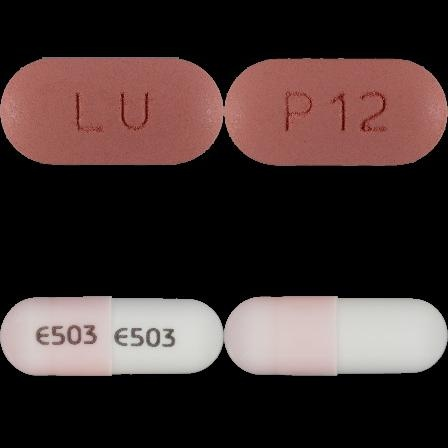50268-791: (0, 0, 224, 224)
